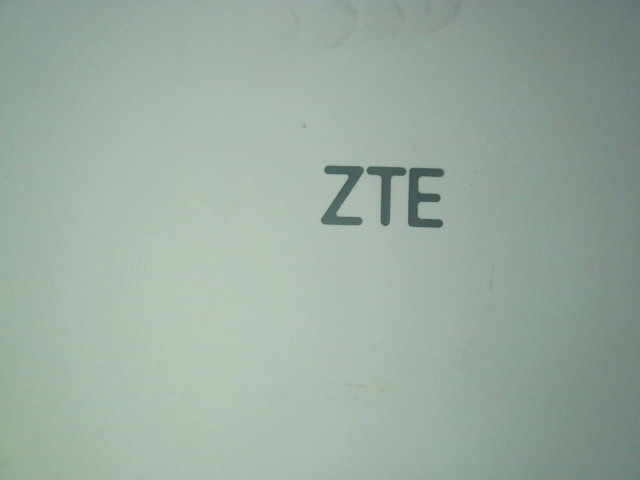AN_ZTE: (310, 157, 457, 237)
